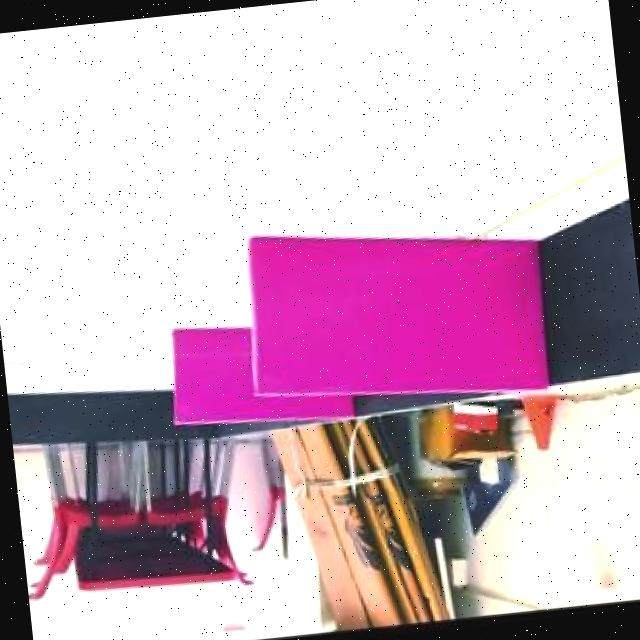xparking: (241, 210, 548, 392), (166, 328, 252, 422)
